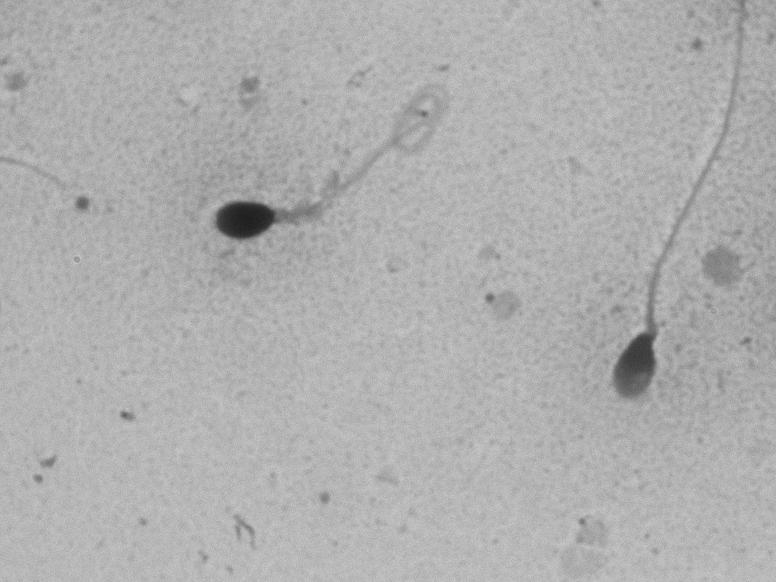Abnormal: (143, 56, 475, 289), (571, 88, 742, 417)
